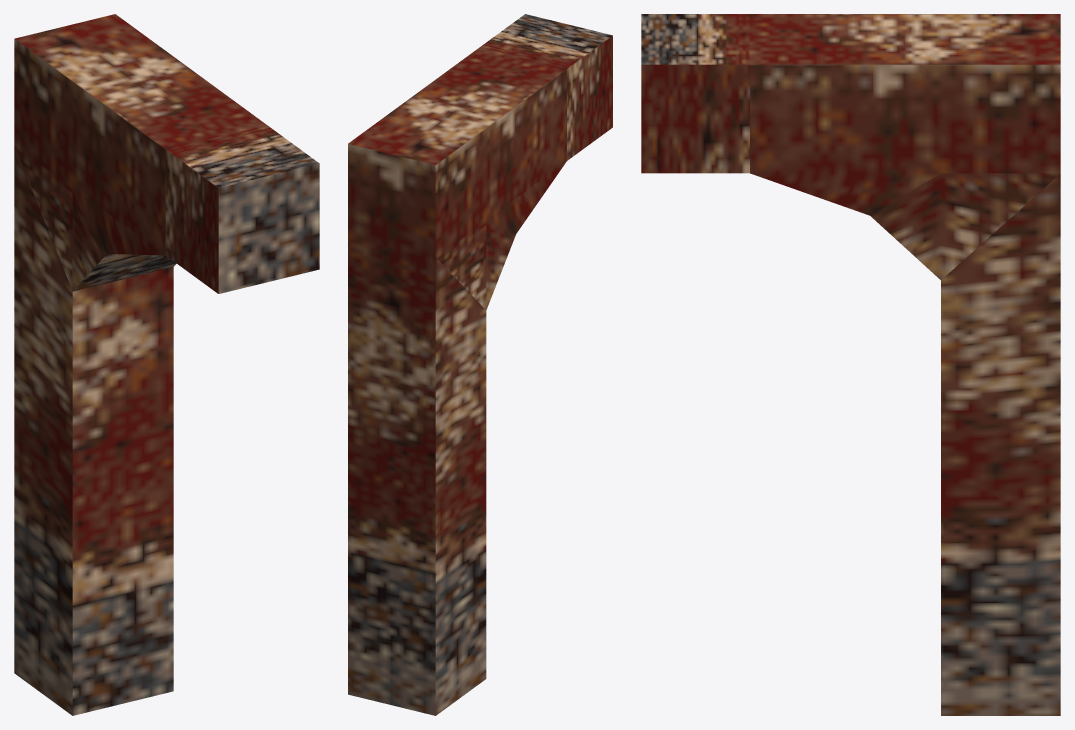
File: SM_Dungeon_Pillar_Arch_Short.fbx
3 renders of one model, left to right at view 1: azimuth 30°, elevation 25°; view 2: azimuth 150°, elevation 25°; view 3: azimuth 270°, elevation 25°, orthographic. The views are drawn at different scales.
Parts seen in each view (by area): view 1: SM_Dungeon_Pillar_Arch_Short; view 2: SM_Dungeon_Pillar_Arch_Short; view 3: SM_Dungeon_Pillar_Arch_Short.
Part boxes in pixels (left/top/right/bottom): SM_Dungeon_Pillar_Arch_Short: left=14, top=14, right=319, bottom=715; SM_Dungeon_Pillar_Arch_Short: left=348, top=14, right=612, bottom=715; SM_Dungeon_Pillar_Arch_Short: left=641, top=14, right=1060, bottom=715.
Bounding box in the file's own units: 50 × 300 × 175.
